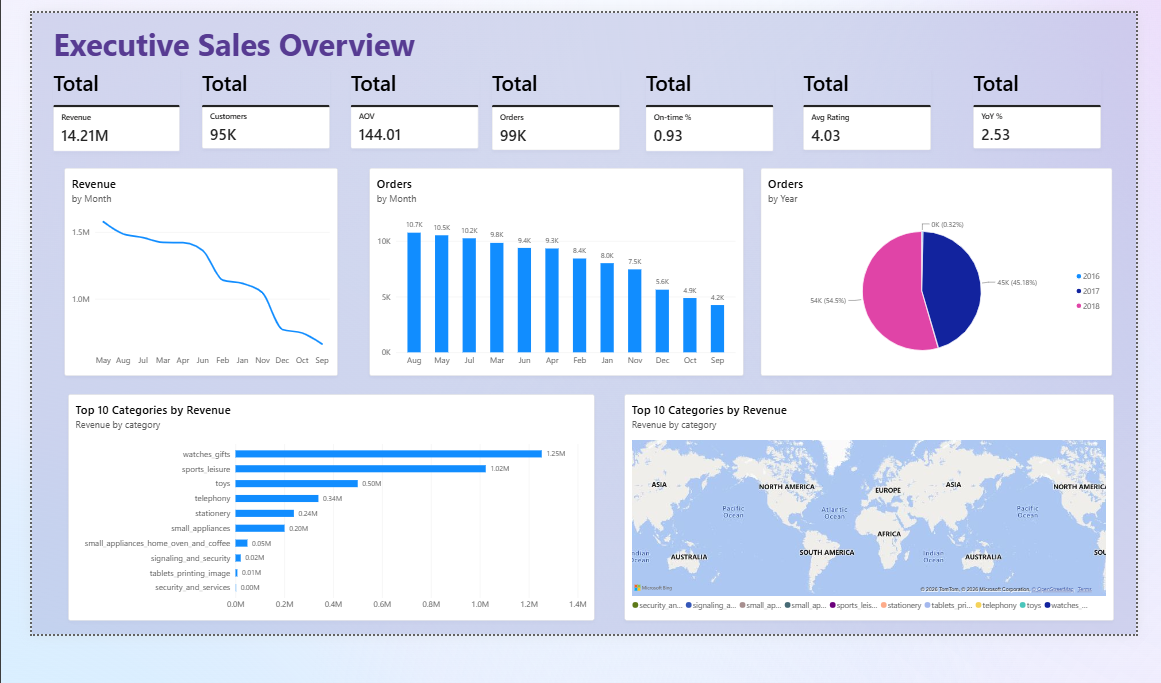

What the dashboard file says about the page in this screenshot:
{"tool":"powerbi","page":{"name":"Overview (Executive Dashboard)","canvas":[1920,1080],"ordinal":0},"visuals":[{"type":"cardVisual","title":"Total","fields":{"Data":["public bi_fact_sales.Revenue"]},"box":[36.4,95.5,220.5,145.5],"z":0},{"type":"cardVisual","title":"Total","fields":{"Data":["public bi_fact_sales.Customers"]},"box":[295.5,95.5,222.7,140.9],"z":1000},{"type":"cardVisual","title":"Total","fields":{"Data":["public bi_fact_sales.AOV"]},"box":[554.5,95.5,222.7,140.9],"z":2000},{"type":"cardVisual","title":"Total","fields":{"Data":["public bi_fact_sales.Orders"]},"box":[800,95.5,222.7,143.2],"z":3000},{"type":"cardVisual","title":"Total","fields":{"Data":["public bi_fact_sales.On-time %"]},"box":[1068.2,95.5,222.7,145.5],"z":4000},{"type":"cardVisual","title":"Total","fields":{"Data":["public bi_fact_sales.Avg Rating"]},"box":[1340.9,95.5,222.7,143.2],"z":5000},{"type":"cardVisual","title":"Total","fields":{"Data":["DimDate.YoY %"]},"box":[1636.4,95.5,222.7,140.9],"z":6000},{"type":"lineChart","fields":{"Category":["DimDate.Month"],"Y":["public bi_fact_sales.Revenue"]},"box":[56.8,270.5,475,361.4],"z":7000},{"type":"clusteredBarChart","title":"Top 10 Categories by Revenue","fields":{"Category":["public bi_fact_sales.category"],"Y":["public bi_fact_sales.Revenue"]},"box":[62,662.8,915.1,393.4],"z":8000},{"type":"columnChart","fields":{"Category":["DimDate.Month"],"Y":["public bi_fact_sales.Orders"]},"box":[586.4,270.5,650,361.4],"z":9000},{"type":"filledMap","title":"Top 10 Categories by Revenue","fields":{"Series":["public bi_fact_sales.category"]},"box":[1030.6,662.8,851,393.4],"z":10000},{"type":"pieChart","fields":{"Category":["DimDate.Date.Variation.Date Hierarchy.Year","DimDate.Date.Variation.Date Hierarchy.Quarter","DimDate.Date.Variation.Date Hierarchy.Month","DimDate.Date.Variation.Date Hierarchy.Day"],"Y":["public bi_fact_sales.Orders"]},"box":[1268.2,270.5,611.4,361.4],"z":10001},{"type":"textbox","box":[36.4,18.2,1822.7,77.3],"z":10002}]}

Visuals, with their boxes on the page's 1920x1080 design canvas (x1, y1, x2, y2). These are canvas units, not pixel positions in the 1161x683 screenshot, which may show the page scaled, cropped or inside an application window:
"Total" cardVisual: (x1=36, y1=96, x2=257, y2=241)
"Total" cardVisual: (x1=296, y1=96, x2=518, y2=236)
"Total" cardVisual: (x1=554, y1=96, x2=777, y2=236)
"Total" cardVisual: (x1=800, y1=96, x2=1023, y2=239)
"Total" cardVisual: (x1=1068, y1=96, x2=1291, y2=241)
"Total" cardVisual: (x1=1341, y1=96, x2=1564, y2=239)
"Total" cardVisual: (x1=1636, y1=96, x2=1859, y2=236)
lineChart - DimDate.Month x public bi_fact_sales.Revenue: (x1=57, y1=270, x2=532, y2=632)
"Top 10 Categories by Revenue" clusteredBarChart: (x1=62, y1=663, x2=977, y2=1056)
columnChart - DimDate.Month x public bi_fact_sales.Orders: (x1=586, y1=270, x2=1236, y2=632)
"Top 10 Categories by Revenue" filledMap: (x1=1031, y1=663, x2=1882, y2=1056)
pieChart - DimDate.Date.Variation.Date Hierarchy.Year x DimDate.Date.Variation.Date Hierarchy.Quarter: (x1=1268, y1=270, x2=1880, y2=632)
textbox: (x1=36, y1=18, x2=1859, y2=96)
